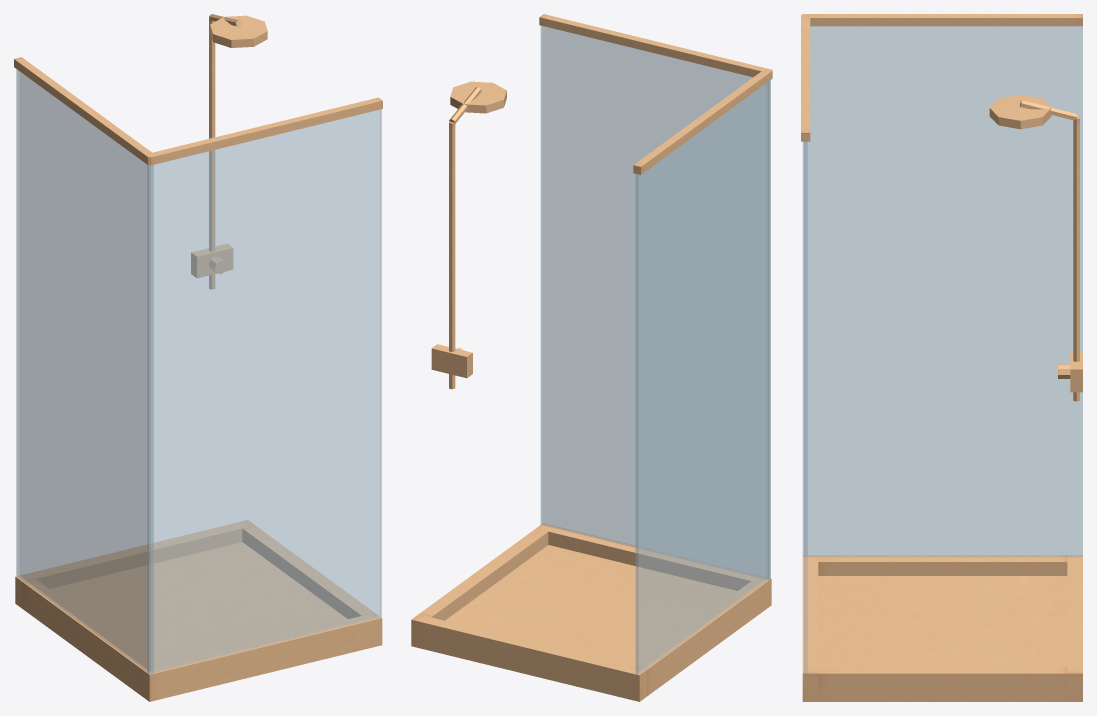
File: Shower.fbx
The picture shows the model from 3 angles, left to right: view 1: azimuth 30°, elevation 25°; view 2: azimuth 150°, elevation 25°; view 3: azimuth 270°, elevation 25°; orthographic projection. The views are drawn at different scales.
Parts seen in each view (by area): view 1: Shower; view 2: Shower; view 3: Shower.
Boxes of the visible parts, x1,y1,x2,y2 form: Shower: [14, 14, 382, 701]; Shower: [411, 14, 772, 701]; Shower: [801, 14, 1082, 701].
Size of the model in its own units: 0.905 by 2.06 by 0.905.
